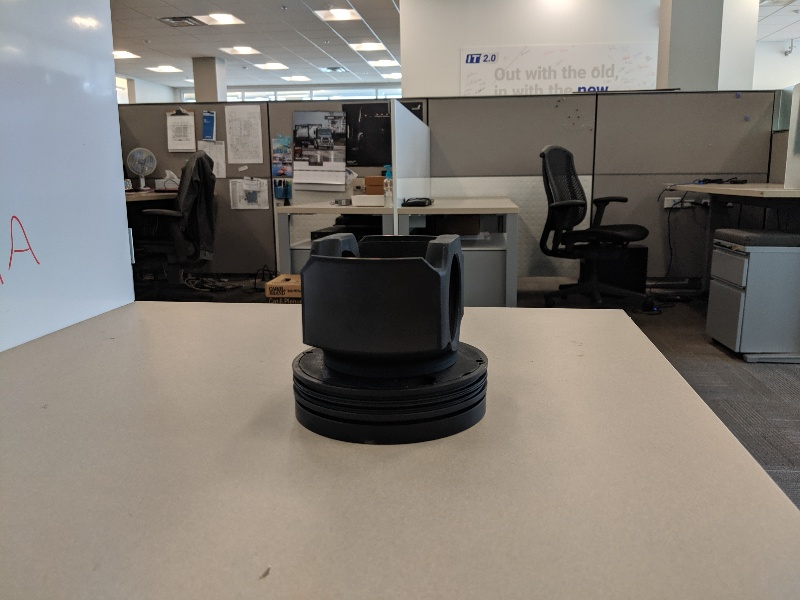piston: (287, 223, 494, 453)
